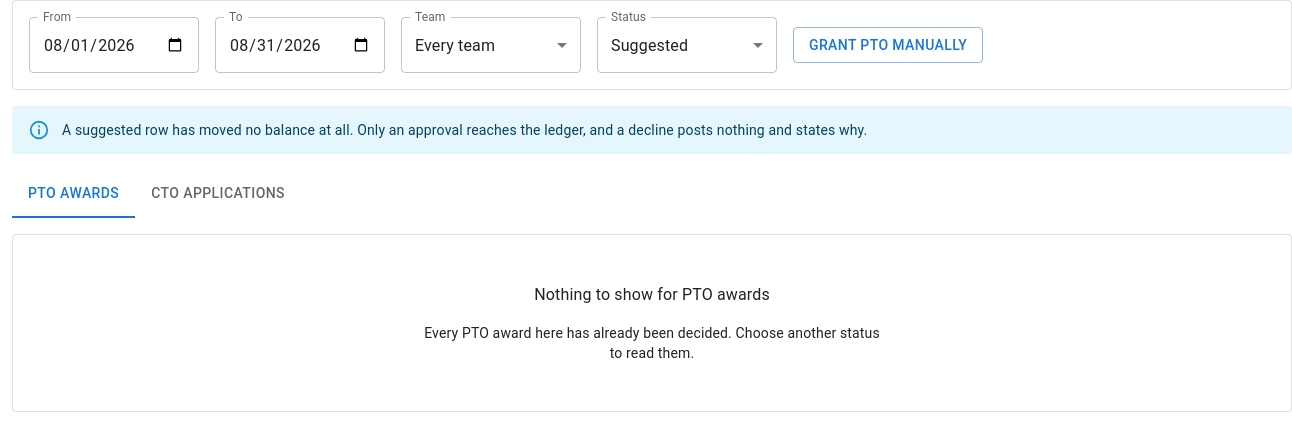
Test: PtoCandidates › names a manual grant rather than showing a rule code nobody can look up (FR-7.6)
Step 1. Click the dropdown named "status" → [650, 45], box [611,36,688,54]
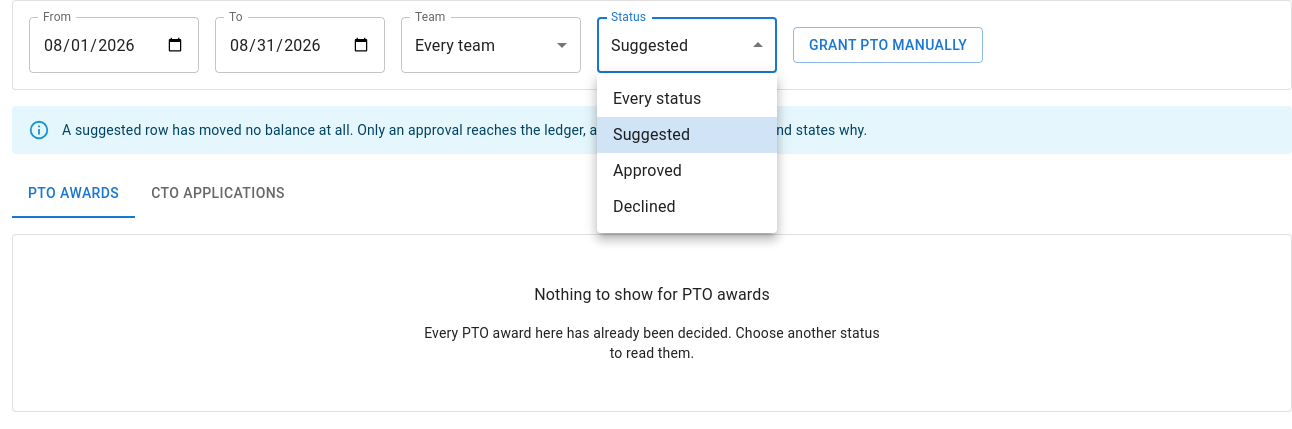
Step 2. Click the option "Every status" → [657, 98], box [613,89,701,108]
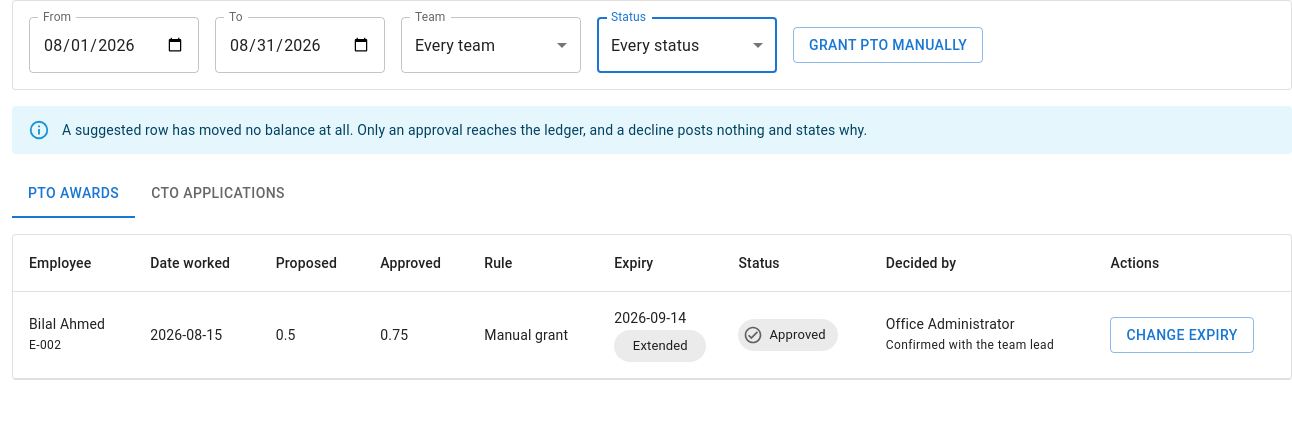
Expected: the text "Manual grant" is shown, [484,327,568,343]
